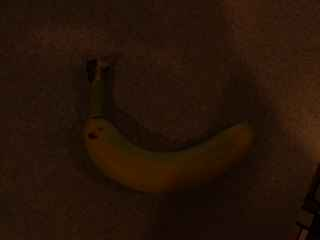banana: (67, 49, 267, 203)
